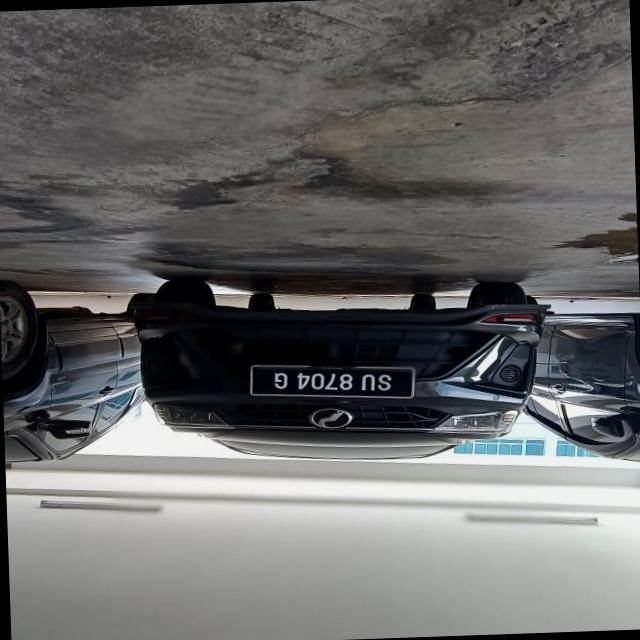PeroduaBezza: (126, 266, 556, 470)
